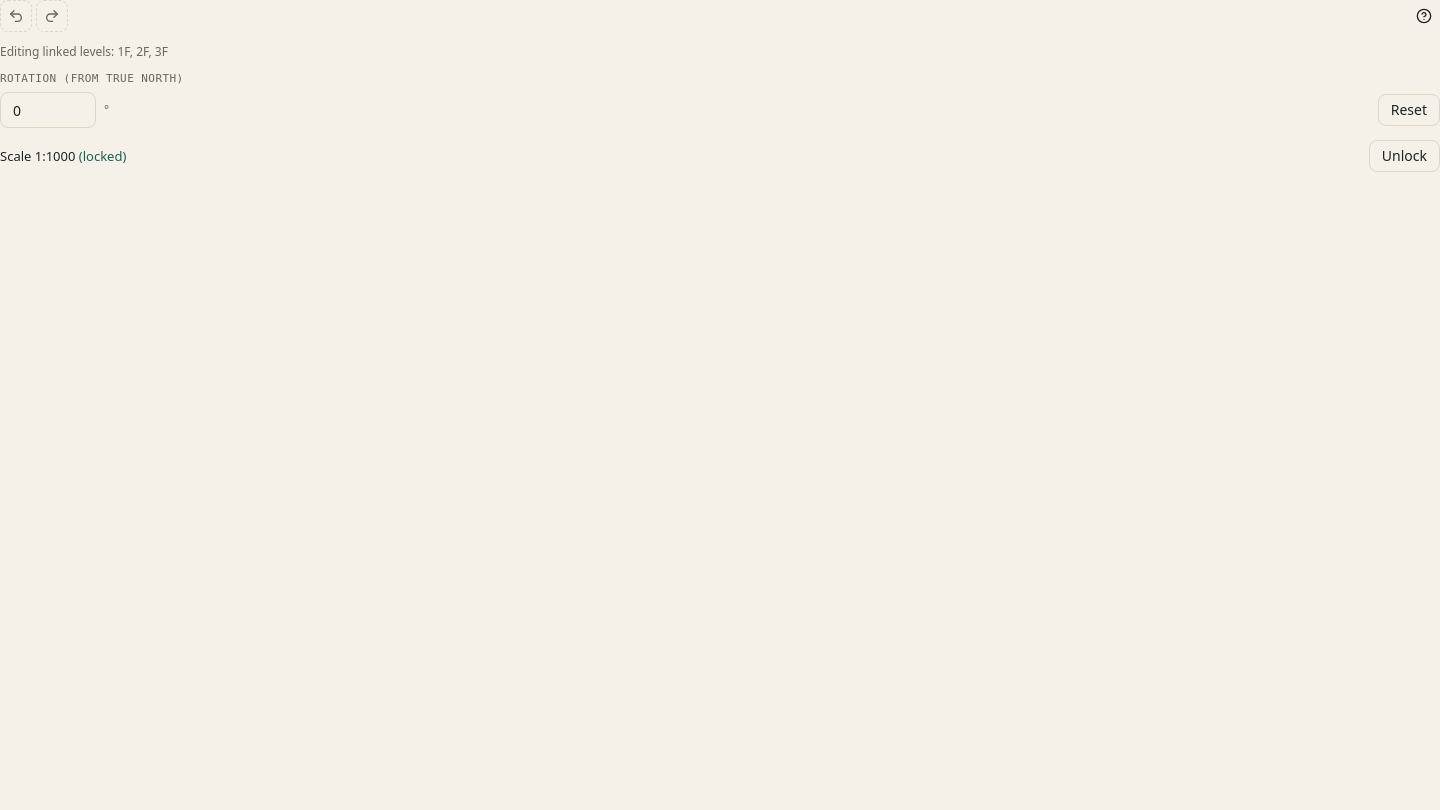
it: both interaction hints sit behind the help control
This screenshot has width=1440, height=810.
Check: the text "corners scale only when unlocked" is not shown
Click the button named "keyboard and mouse help": (1424,16) x1=1408 y1=0 x2=1439 y2=32
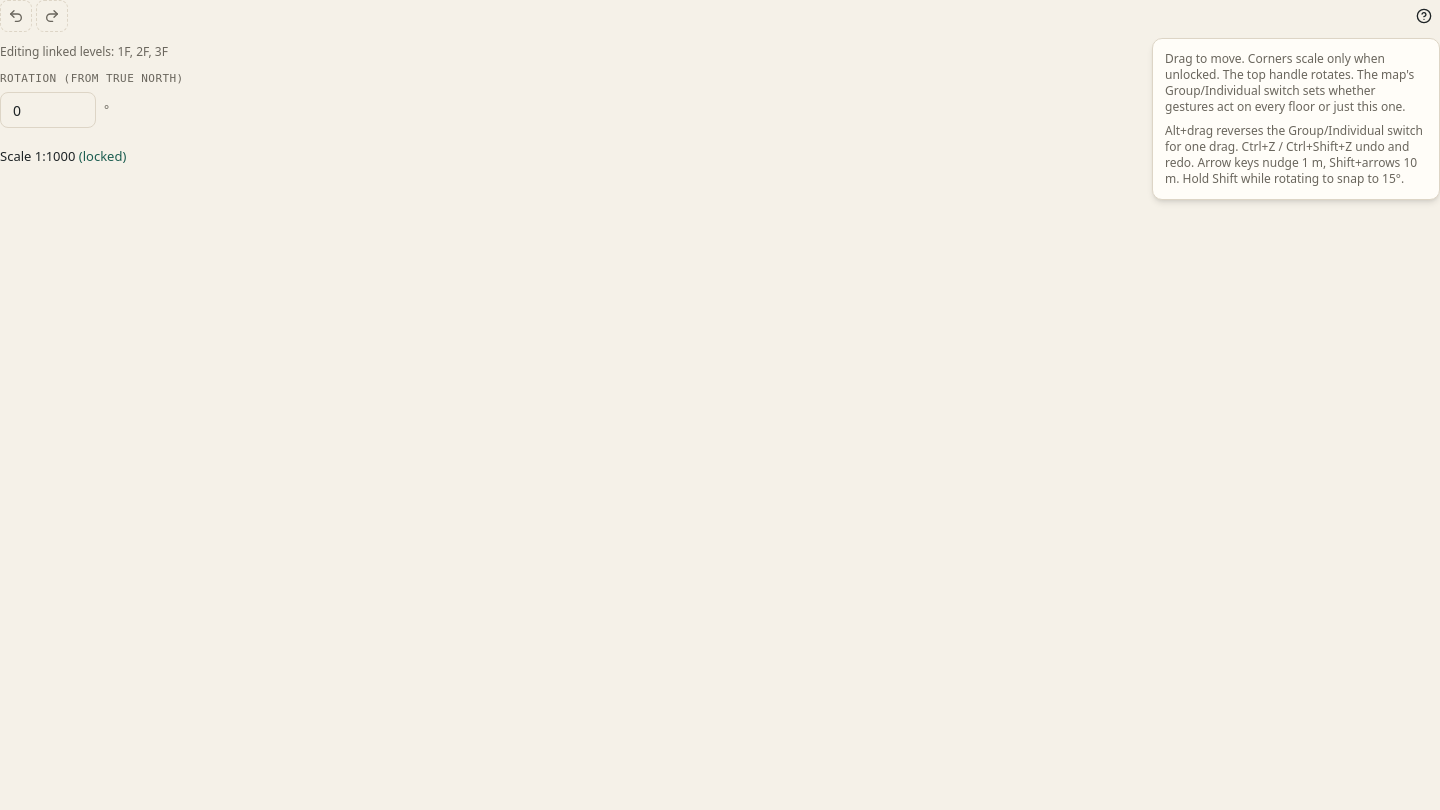
Check: the text "Corners scale only when unlocked" is shown, box x1=1165 y1=50 x2=1414 y2=115
Check: the text "arrow keys nudge" is shown, box x1=1165 y1=122 x2=1423 y2=187
